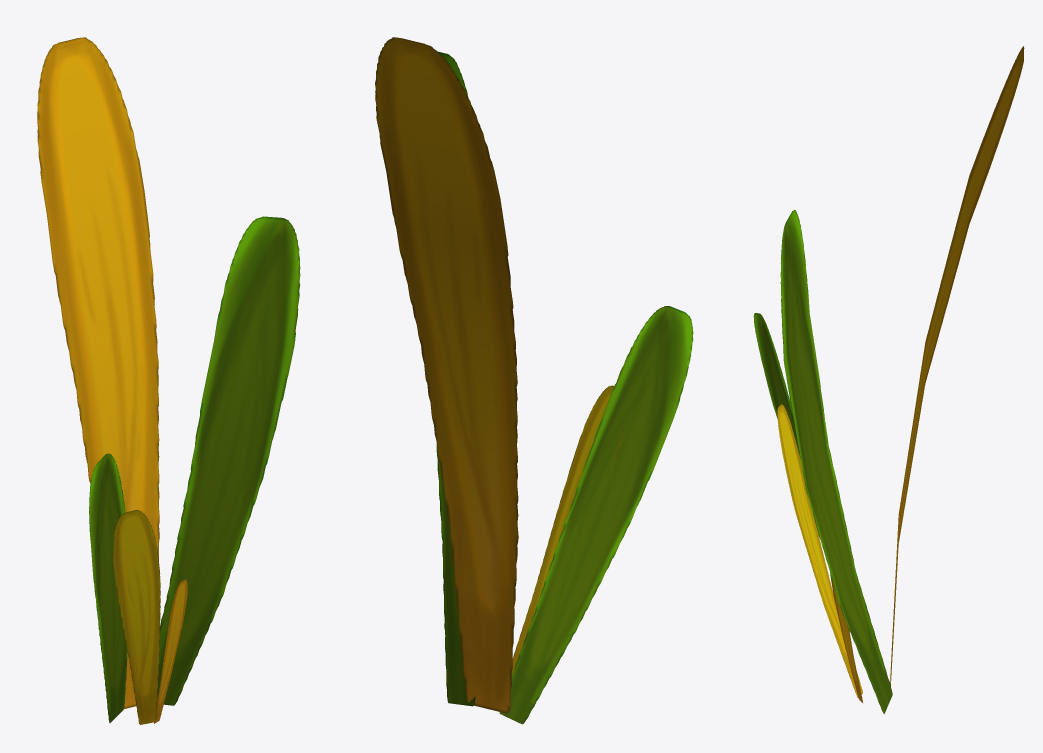
The model's file is 13_Malla_Arbusto_Triple.fbx.
3 renders of one model, left to right at view 1: azimuth 30°, elevation 25°; view 2: azimuth 150°, elevation 25°; view 3: azimuth 270°, elevation 25°, orthographic. The views are drawn at different scales.
Parts seen in each view (by area): view 1: Arbustos_Varios3; view 2: Arbustos_Varios3; view 3: Arbustos_Varios3.
Boxes of the visible parts, x1,y1,x2,y2 form: Arbustos_Varios3: (37,37,300,724); Arbustos_Varios3: (375,37,693,724); Arbustos_Varios3: (753,46,1024,713).
Size of the model in its own units: 38.97 by 95.2 by 36.74.
